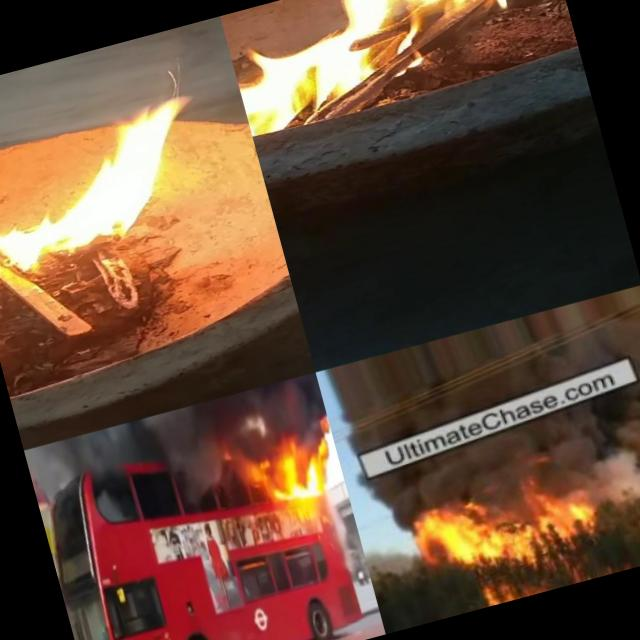fire: (0, 68, 233, 300), (219, 0, 553, 133), (407, 458, 608, 580), (253, 432, 340, 506)
smoke: (23, 392, 262, 537), (569, 384, 640, 516)
